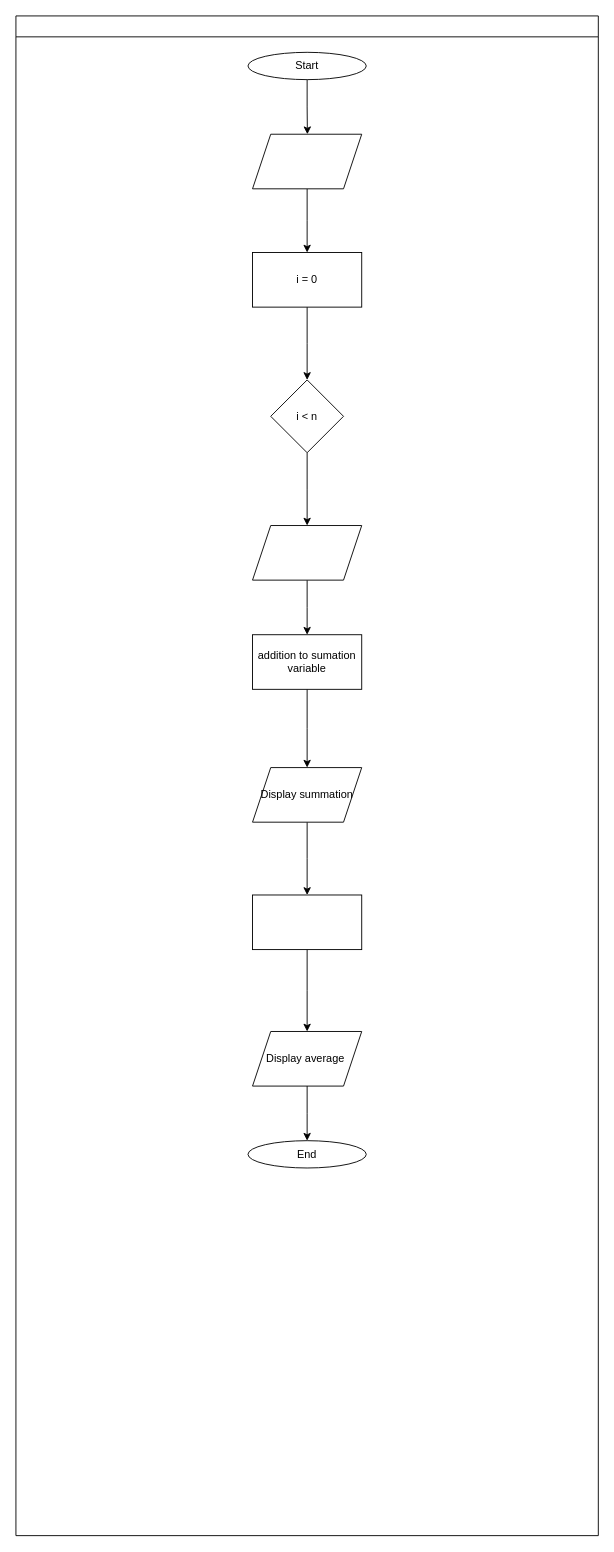
Some shapes in this 614 by 1552 pixel diagram are drawn without their labels. The box of each missing label's shape, as (x1, y1, x2, y2) in pixels:
Calculate average of sum: (252, 894, 362, 950)
Read n: (252, 133, 362, 189)
Read number: (252, 525, 362, 580)
